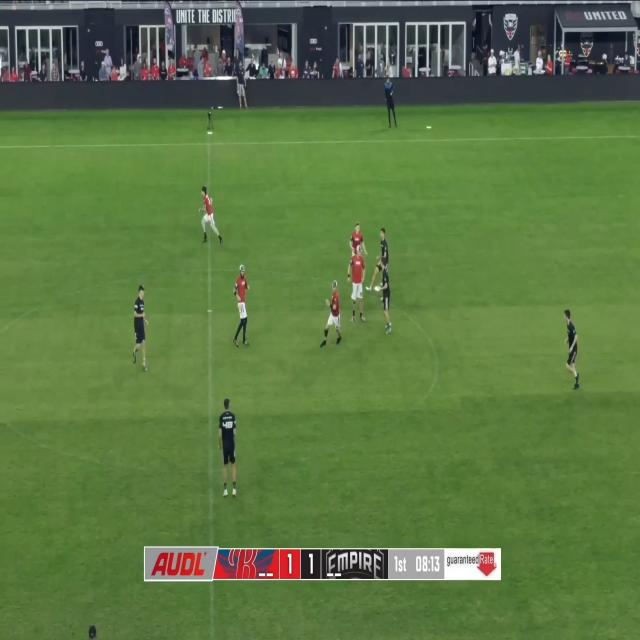Disc: (375, 286, 381, 292), (426, 126, 432, 128), (207, 132, 213, 134)
Player: (218, 398, 237, 498), (320, 279, 342, 349), (132, 284, 149, 372), (347, 245, 366, 323), (366, 228, 389, 291), (233, 264, 250, 348), (199, 186, 222, 246), (564, 309, 580, 392), (380, 257, 391, 334), (349, 223, 368, 257)
